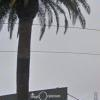Palm tree: (6, 6, 47, 100)
